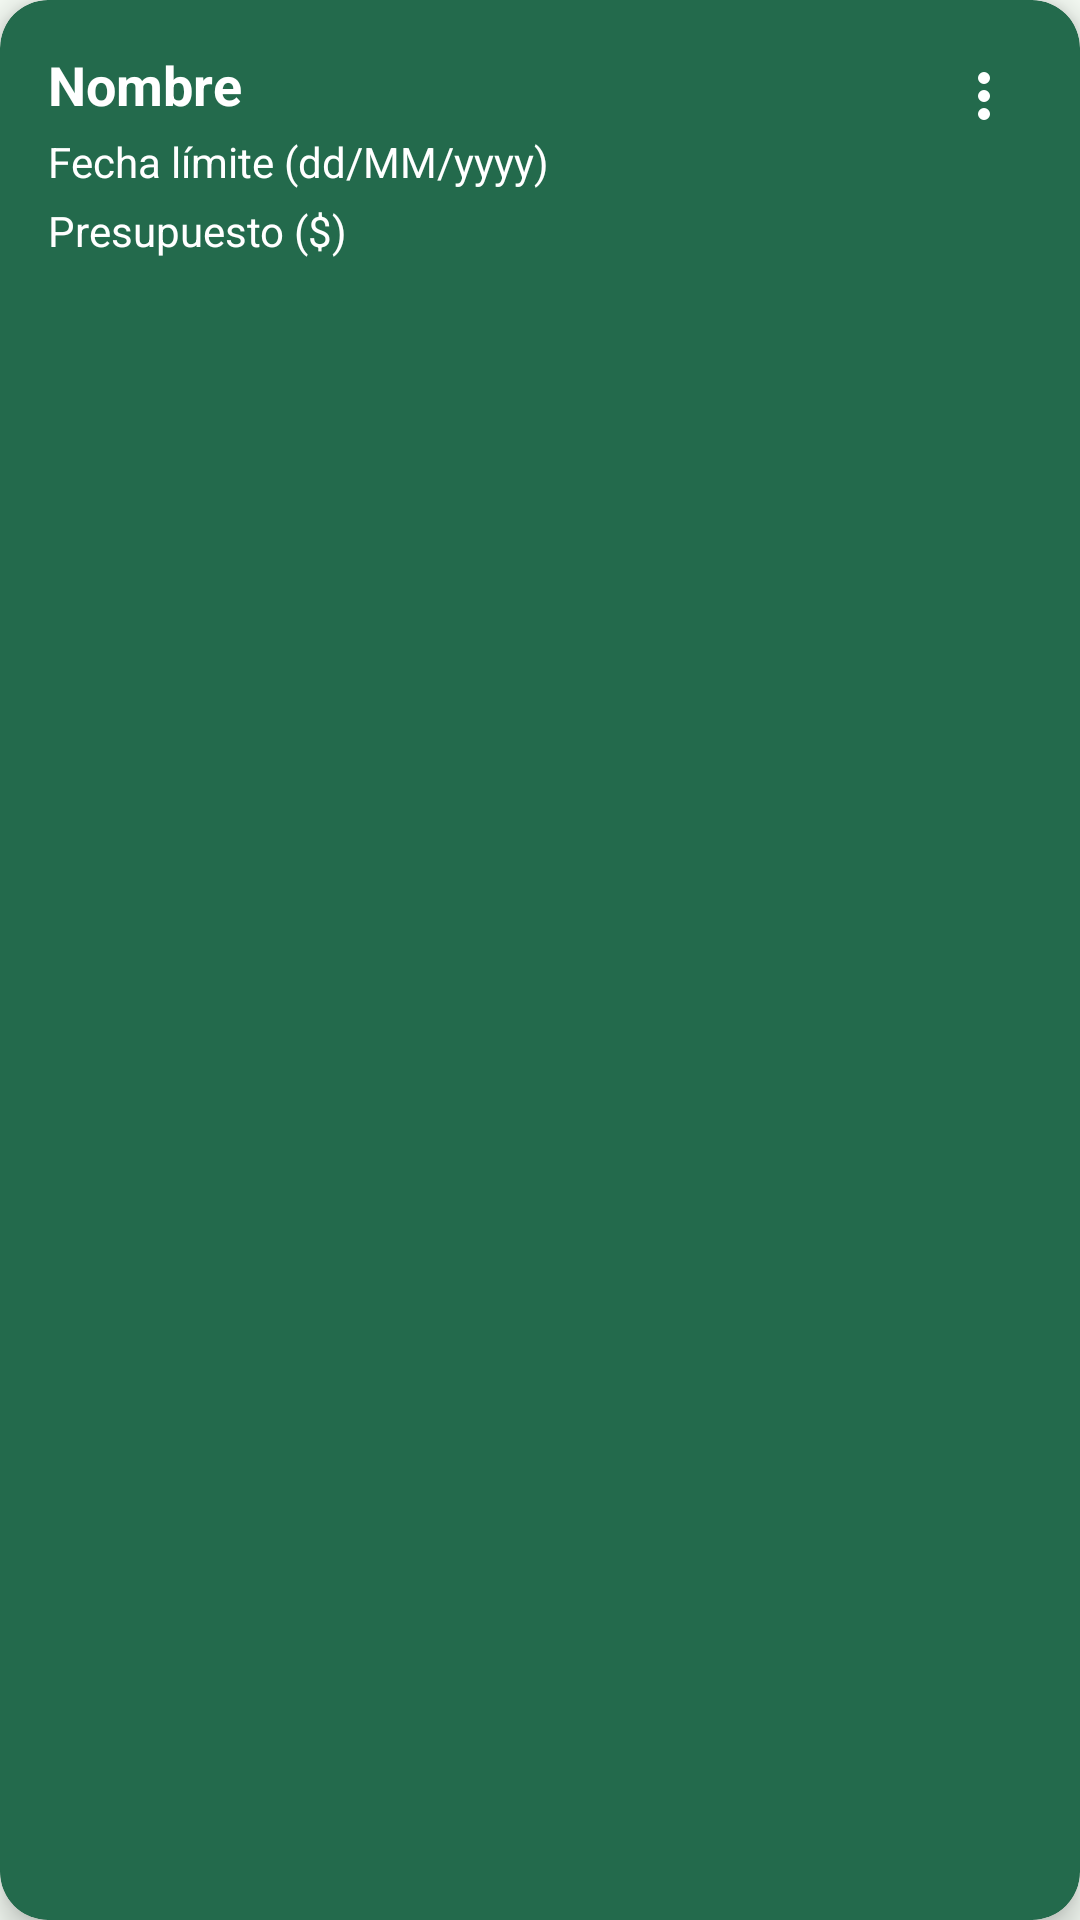

Where to tap for icons on this 1080 x 1920 app screen, as [x,y]:
Opciones: [984,96]
